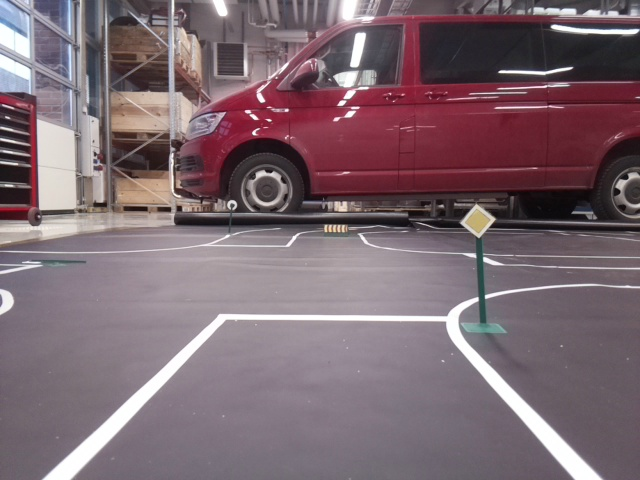Priority: (458, 204, 494, 236)
